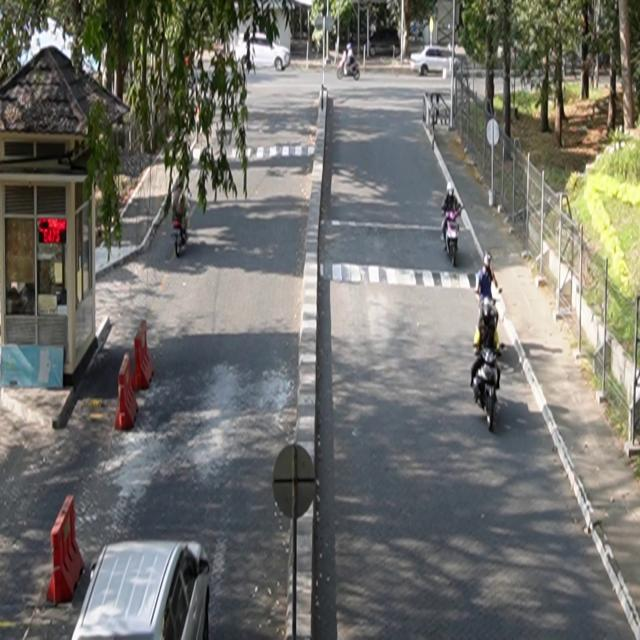car: (231, 33, 292, 72), (411, 46, 463, 77)
